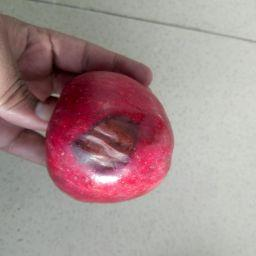apple: (32, 59, 194, 216)
